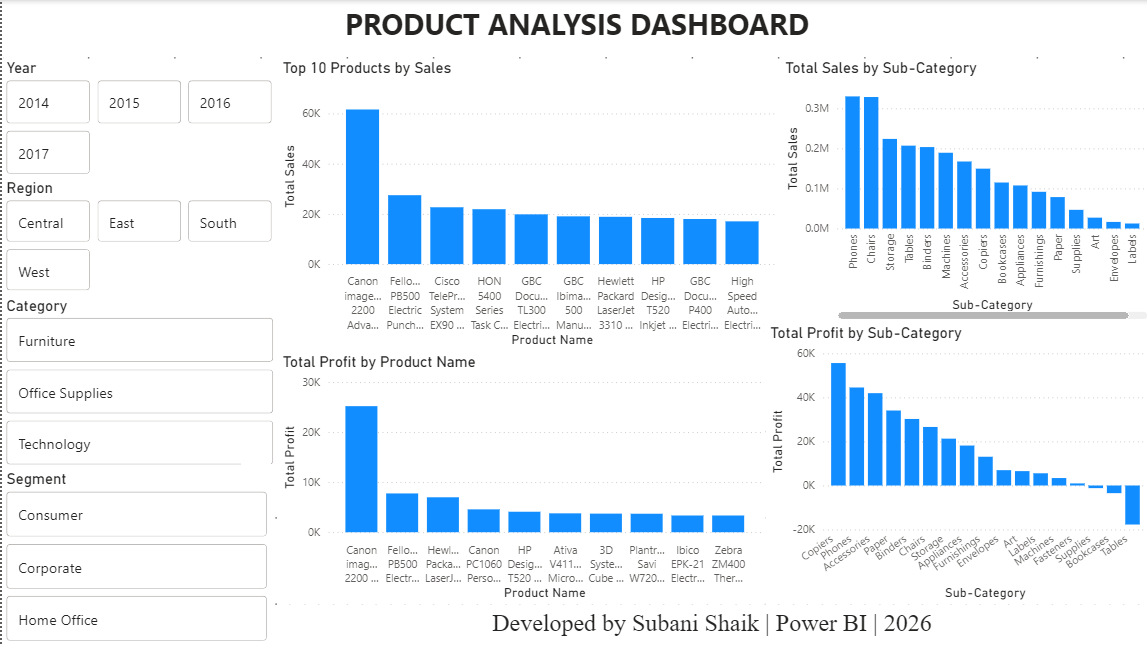

The dashboard page shown, as its layout file describes it:
{"tool":"powerbi","page":{"name":"Product Analysis","canvas":[1280,720],"ordinal":1},"visuals":[{"type":"textbox","box":[0,0,1280,55.7],"z":0},{"type":"clusteredColumnChart","title":"Top 10 Products by Sales","fields":{"Category":["Superstore.Product Name"],"Y":["Superstore.Total Sales"]},"box":[307.5,65.4,559.3,325.6],"z":1000},{"type":"clusteredColumnChart","fields":{"Category":["Superstore.Sub-Category"],"Y":["Superstore.Total Sales"]},"box":[866.8,65.4,413.2,295],"z":2000},{"type":"clusteredColumnChart","fields":{"Category":["Superstore.Sub-Category"],"Y":["Superstore.Total Profit"]},"box":[850.1,360.3,429.9,313],"z":3000},{"type":"clusteredColumnChart","fields":{"Category":["Superstore.Product Name"],"Y":["Superstore.Total Profit"]},"box":[307.5,392.3,542.6,281],"z":4000},{"type":"advancedSlicerVisual","fields":{"Values":["Superstore.Year"]},"box":[0,65.4,307.5,133.6],"z":5000},{"type":"advancedSlicerVisual","fields":{"Values":["Superstore.Region"]},"box":[0,199,307.5,130.8],"z":6000},{"type":"advancedSlicerVisual","fields":{"Values":["Superstore.Category"]},"box":[0,329.7,307.5,193.4],"z":7000},{"type":"advancedSlicerVisual","fields":{"Values":["Superstore.Segment"]},"box":[0,523.1,300.5,197.6],"z":8000},{"type":"textbox","box":[300.5,673.4,979.5,47.3],"z":9000}]}

Visuals, with their boxes in screenshot pixels (x1, y1, x2, y2), scaled from the page's 1280x720 canvas onto the 1147x646 screenshot:
textbox: (0, 0, 1146, 50)
"Top 10 Products by Sales" clusteredColumnChart: (276, 59, 777, 351)
clusteredColumnChart - Superstore.Sub-Category x Superstore.Total Sales: (777, 59, 1146, 323)
clusteredColumnChart - Superstore.Sub-Category x Superstore.Total Profit: (762, 323, 1146, 604)
clusteredColumnChart - Superstore.Product Name x Superstore.Total Profit: (276, 352, 762, 604)
advancedSlicerVisual - Superstore.Year: (0, 59, 276, 179)
advancedSlicerVisual - Superstore.Region: (0, 179, 276, 296)
advancedSlicerVisual - Superstore.Category: (0, 296, 276, 469)
advancedSlicerVisual - Superstore.Segment: (0, 469, 269, 645)
textbox: (269, 604, 1146, 645)
